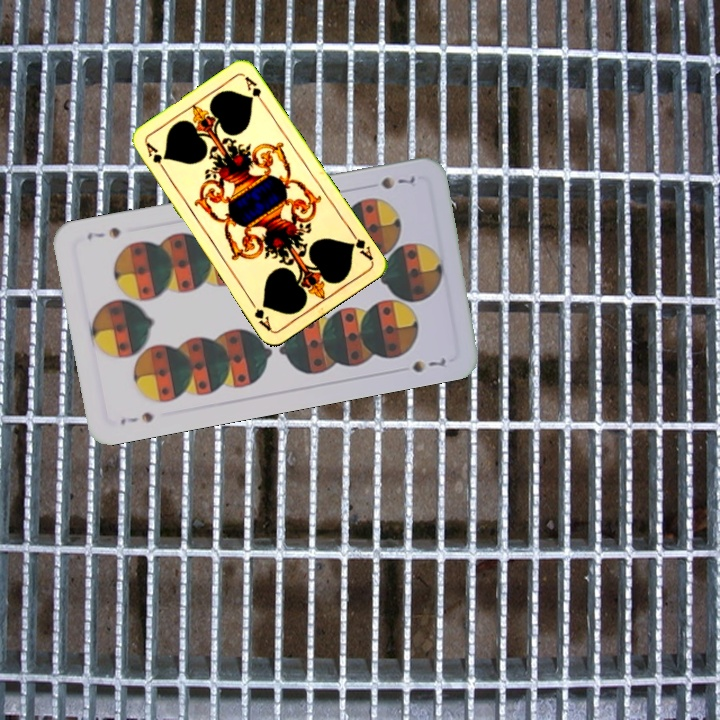GA: (346, 227, 376, 263), (142, 138, 169, 175)
S7: (377, 171, 418, 192), (116, 408, 156, 428)
